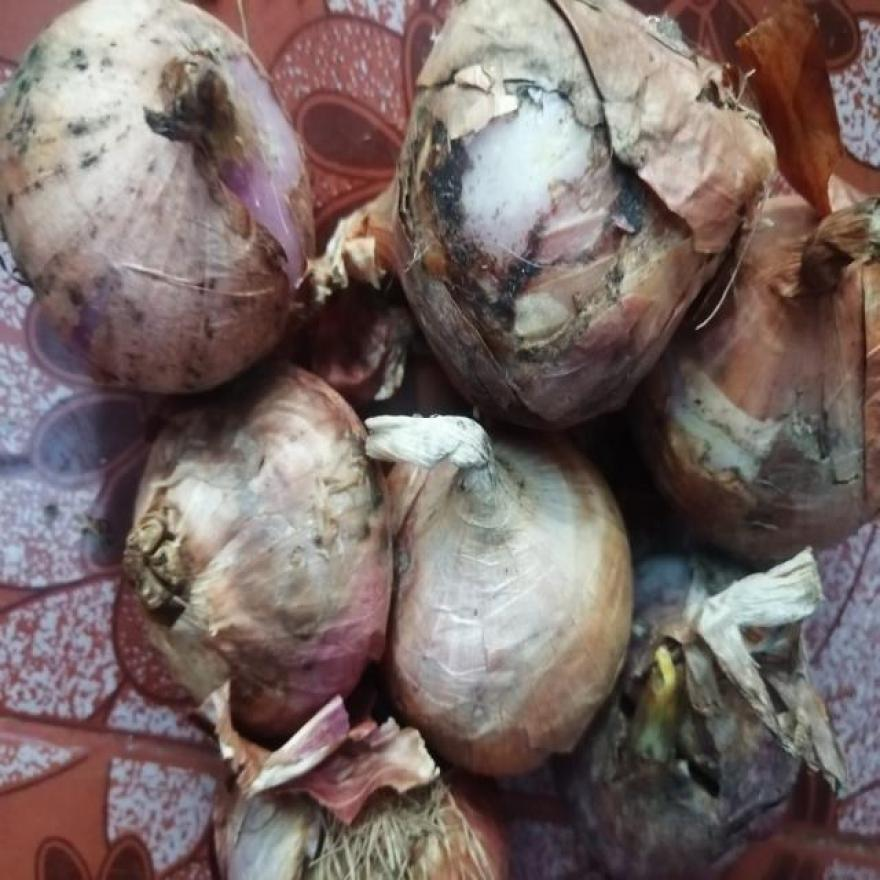Rotten: (426, 102, 574, 329), (665, 346, 845, 511), (654, 625, 738, 787)
